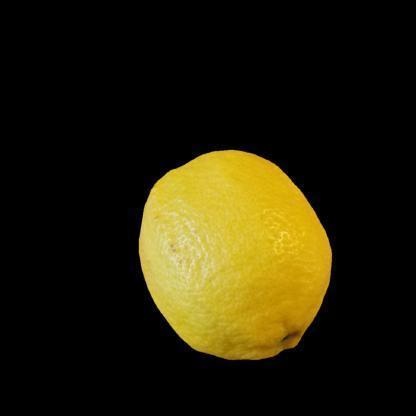lemon: (138, 148, 333, 360)
